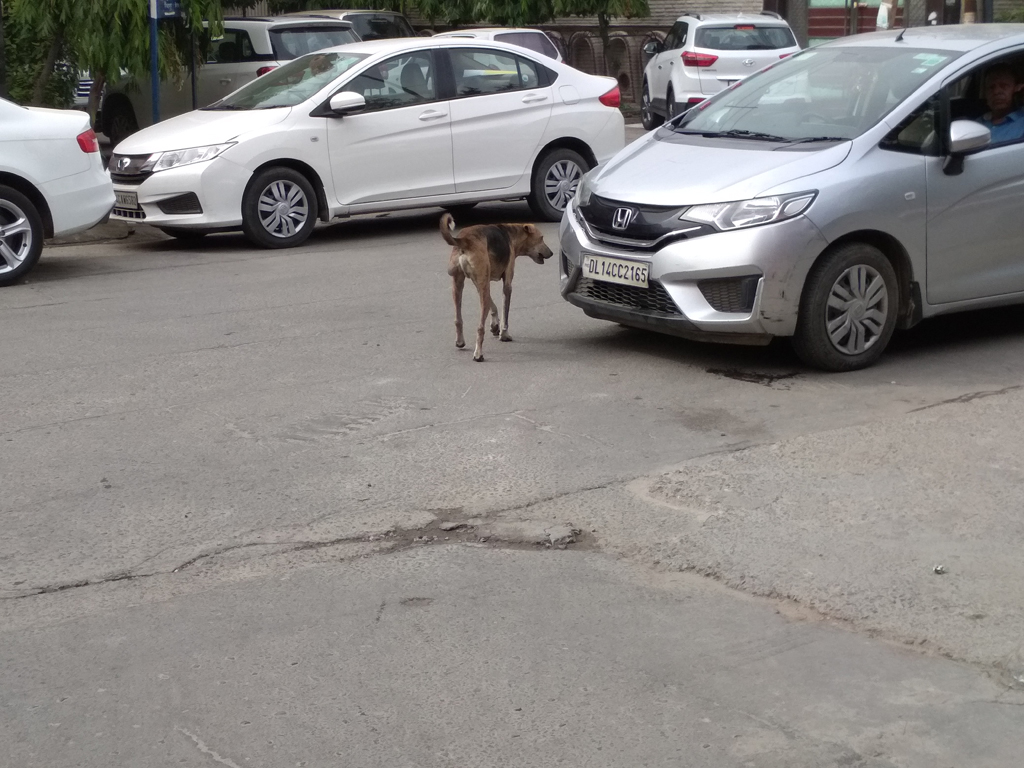dog: (438, 212, 552, 361)
